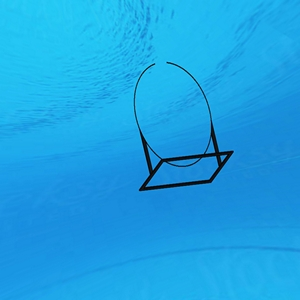circle: (129, 61, 237, 194)
